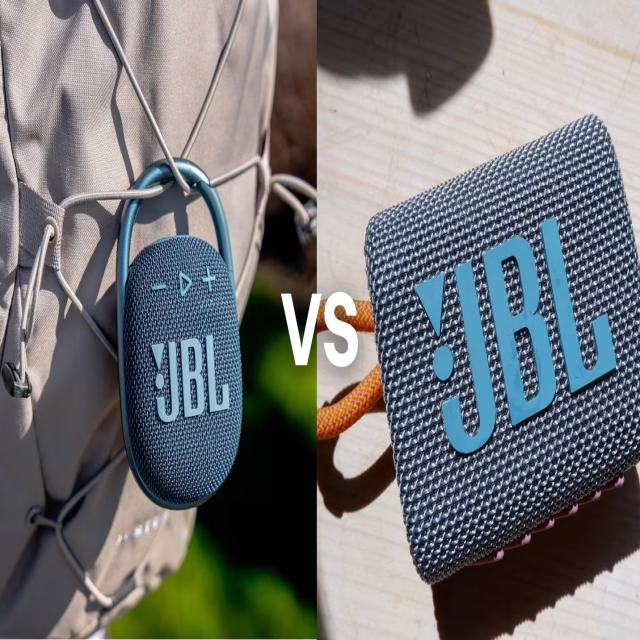column JBL: (352, 152, 640, 548)
